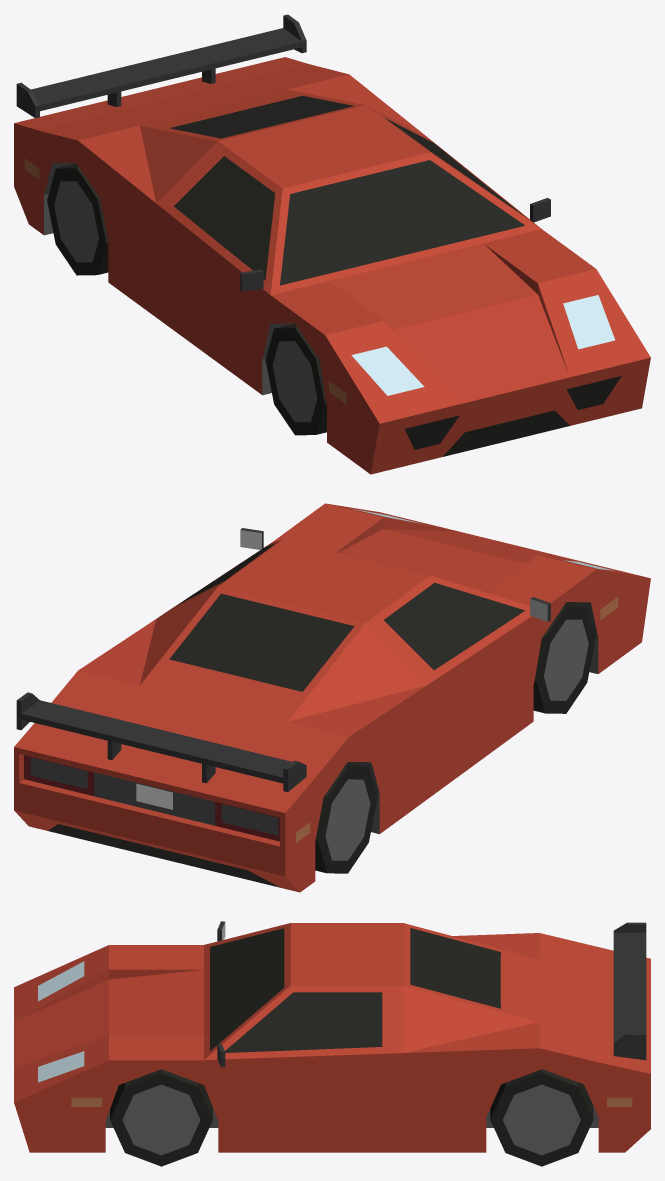
File: Veh_Sports_Car_03_Red.obj
The picture shows the model from 3 angles, top to bottom: view 1: azimuth 30°, elevation 25°; view 2: azimuth 150°, elevation 25°; view 3: azimuth 270°, elevation 25°; orthographic projection. The views are drawn at different scales.
Bounding box in the file's own units: 1.25 × 0.6867 × 2.56.
